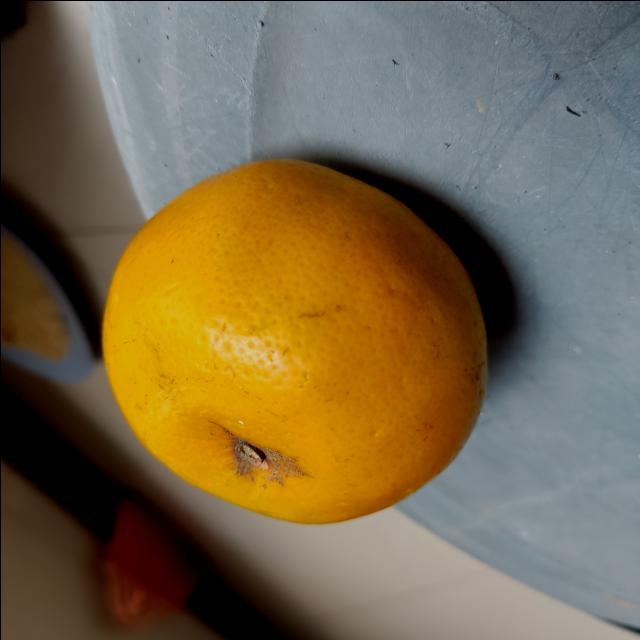agrume: (95, 154, 495, 528)
